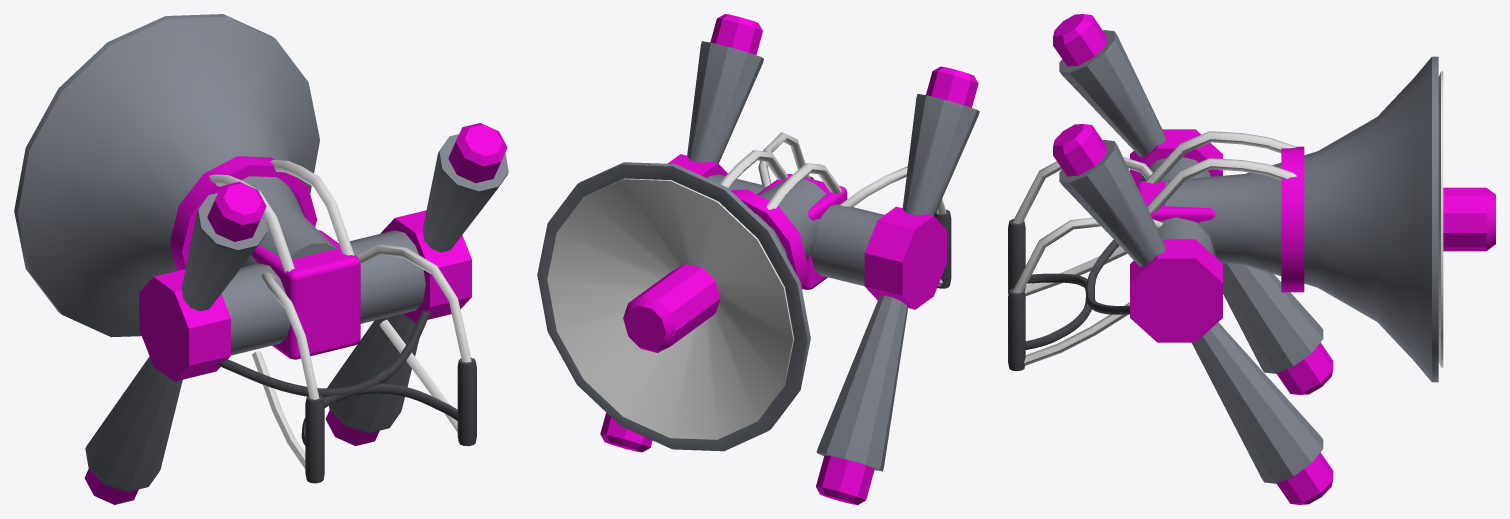
The model's file is W_Soundblaster.fbx.
The picture shows the model from 3 angles, left to right: view 1: azimuth 30°, elevation 25°; view 2: azimuth 150°, elevation 25°; view 3: azimuth 270°, elevation 25°; orthographic projection. The views are drawn at different scales.
Visible parts, largest first — view 1: Soundblaster_Body; view 2: Soundblaster_Body; view 3: Soundblaster_Body.
Boxes of the visible parts, box(x1,y1,x2,y2) form: Soundblaster_Body: box(14, 14, 508, 504); Soundblaster_Body: box(537, 14, 979, 504); Soundblaster_Body: box(1008, 14, 1495, 504).
Bounding box in the file's own units: 1.46 × 1.81 × 2.14.
